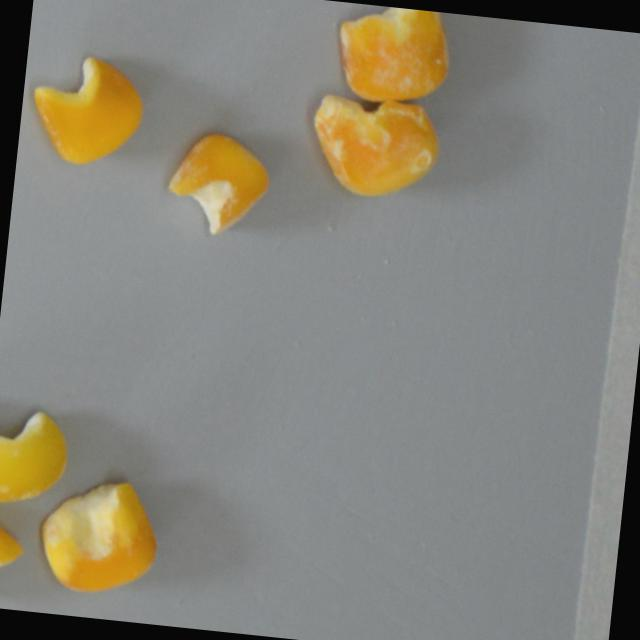no_canjicado: (34, 472, 163, 600), (25, 46, 150, 173), (0, 505, 28, 610)
pelicula: (305, 91, 446, 206), (332, 1, 456, 108), (163, 126, 275, 241), (0, 400, 75, 511)
